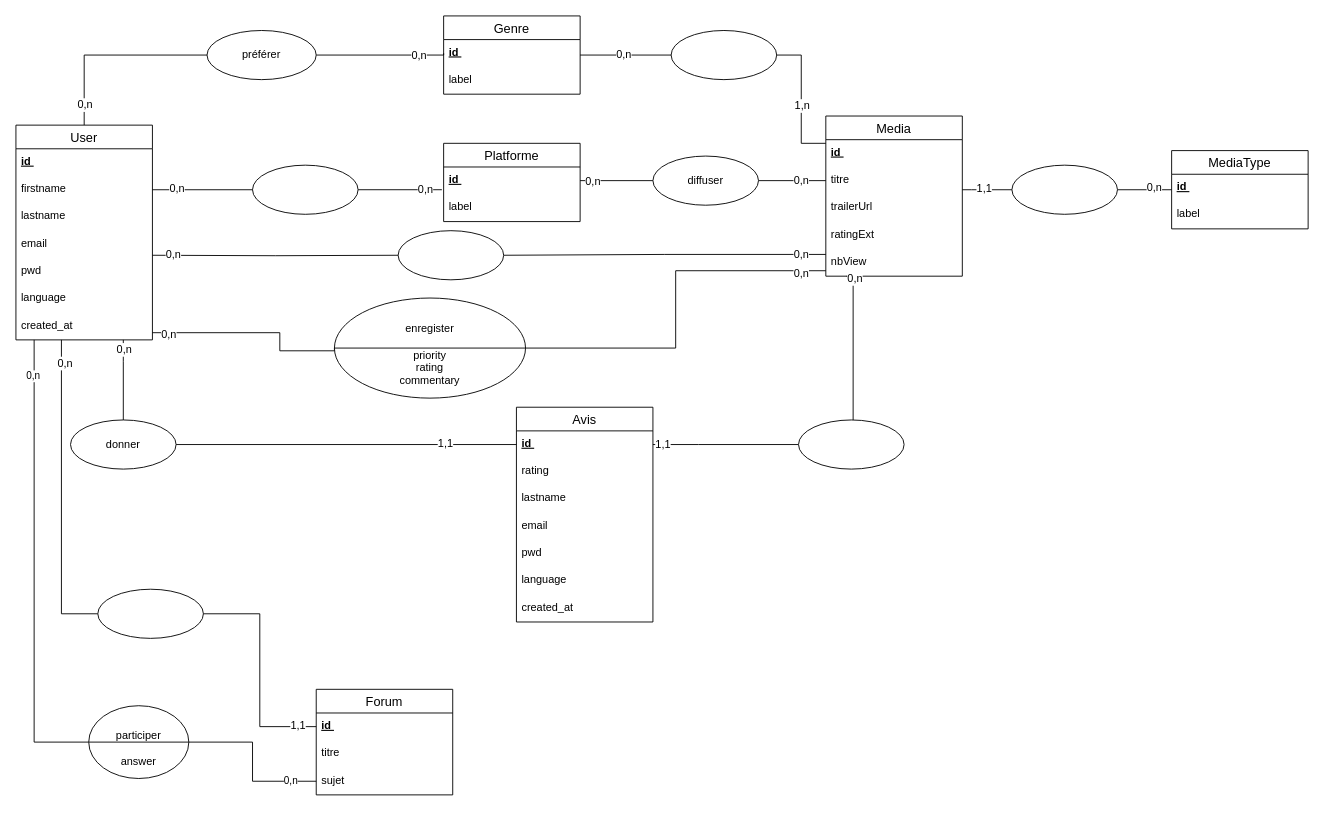
Some shapes in this 1324 by 814 pixel diagram are drawn without their labels. The centre of each missing label's shape, as x and y in pixels:
Créer: (150,613)
juger: (851,444)
posséder: (305,189)
qualifier: (723,55)
visionner: (450,255)
être: (1064,189)
